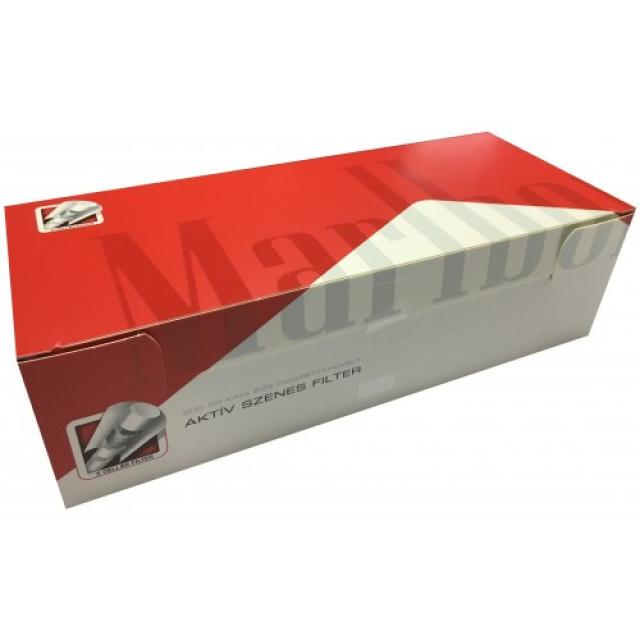marlboro: (16, 129, 638, 508)
